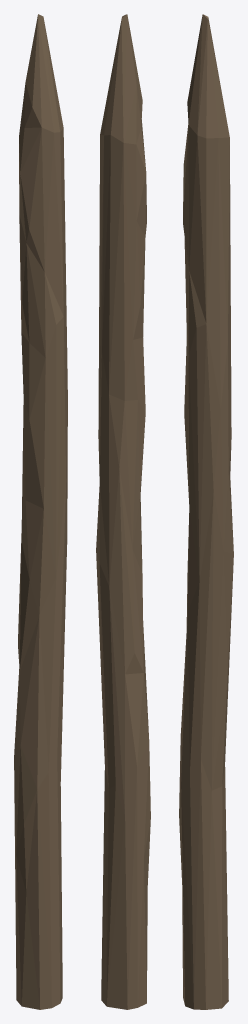
The model's file is siege_spike.FBX.
3 views of the same model, side by side, from view 1: azimuth 30°, elevation 25°; view 2: azimuth 150°, elevation 25°; view 3: azimuth 330°, elevation 25° (orthographic).
Parts seen in each view (by area): view 1: siege_spike; view 2: siege_spike; view 3: siege_spike.
Boxes of the visible parts, x1,y1,x2,y2 form: siege_spike: (14, 14, 67, 1009); siege_spike: (96, 14, 150, 1009); siege_spike: (179, 14, 233, 1009).
Size of the model in its own units: 0.1012 by 2.09 by 0.0962.
